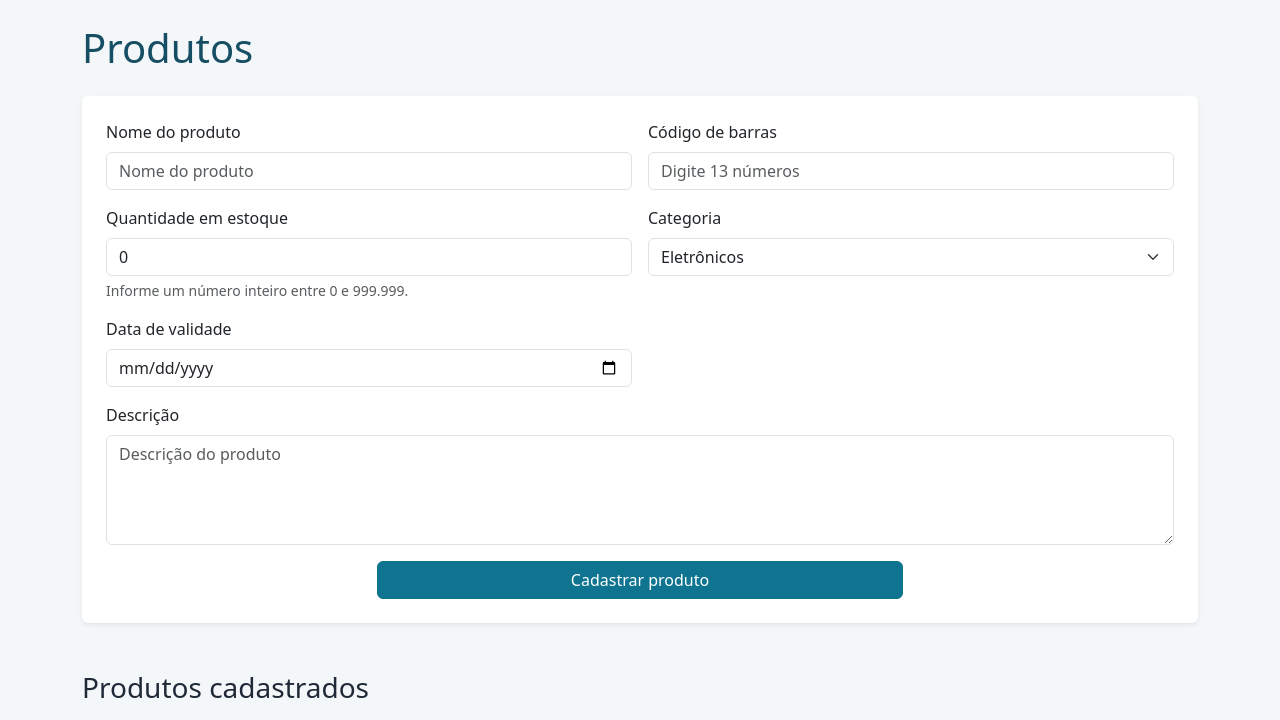
Test case: ProductsPage › informa quando são digitados caracteres inválidos no estoque
Replace the text in the field labelled "Quantidade em estoque" with "abc" at (369, 257), box [106,238,632,276]
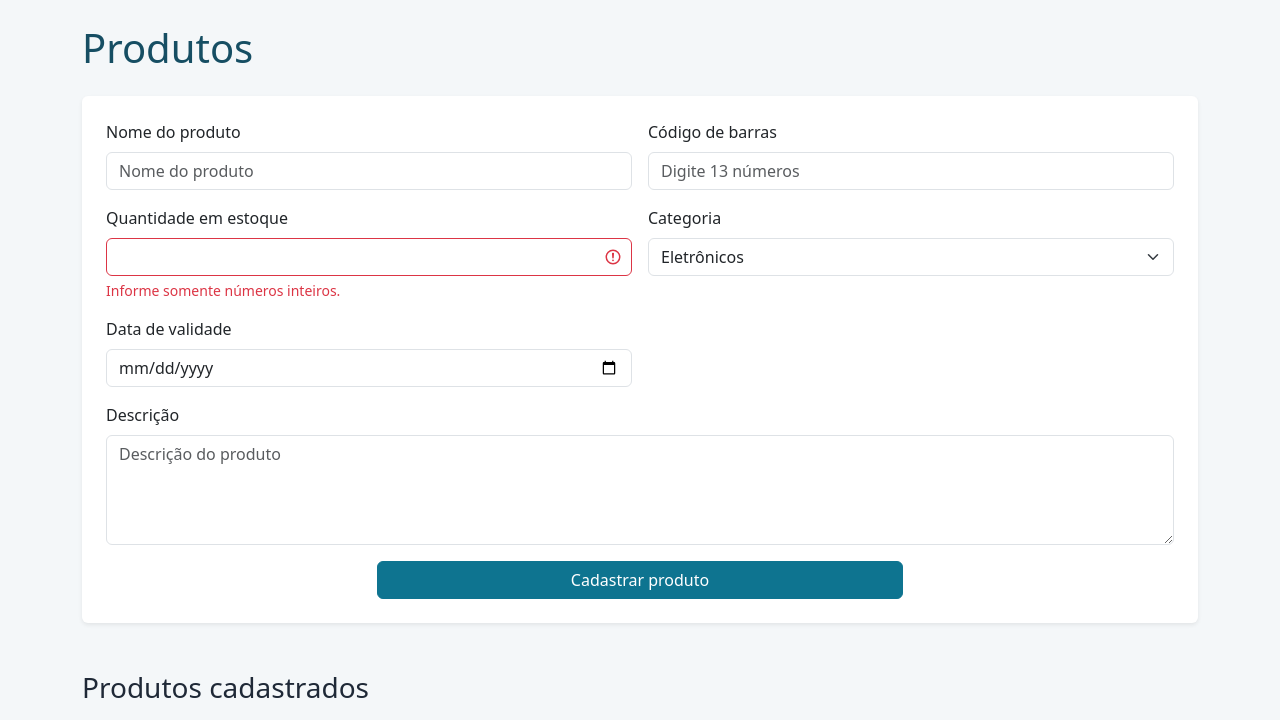
Expected: the message reads "Informe somente números inteiros.", [106,281,340,300]
Expected: the field labelled "Quantidade em estoque" is empty, [106,238,632,276]
